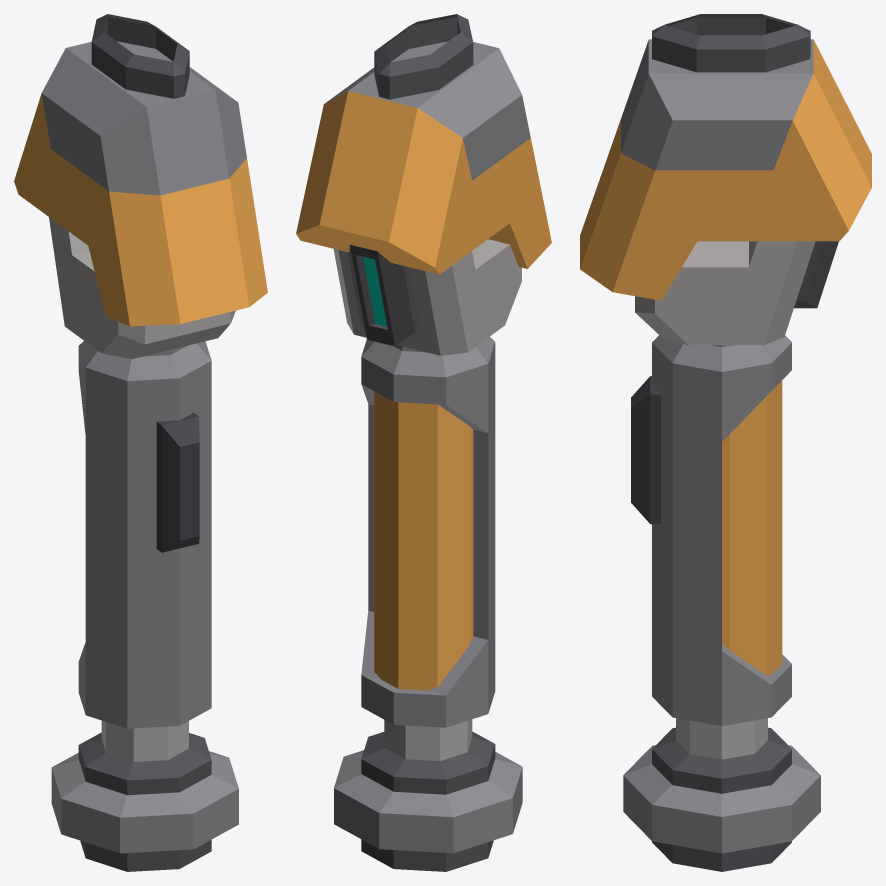
Rendered from HandleSaber.fbx.
3 renders of one model, left to right at view 1: azimuth 30°, elevation 25°; view 2: azimuth 150°, elevation 25°; view 3: azimuth 270°, elevation 25°, orthographic.
Parts seen in each view (by area): view 1: SM_Wep_Sword_01a; view 2: SM_Wep_Sword_01a; view 3: SM_Wep_Sword_01a.
Boxes of the visible parts, box(x1,y1,x2,y2) form: SM_Wep_Sword_01a: box(14, 14, 267, 871); SM_Wep_Sword_01a: box(296, 14, 551, 871); SM_Wep_Sword_01a: box(580, 14, 871, 871).
Bounding box in the file's own units: 7.26 × 33.14 × 10.71.
Materials: 1 (1 with a texture image).
